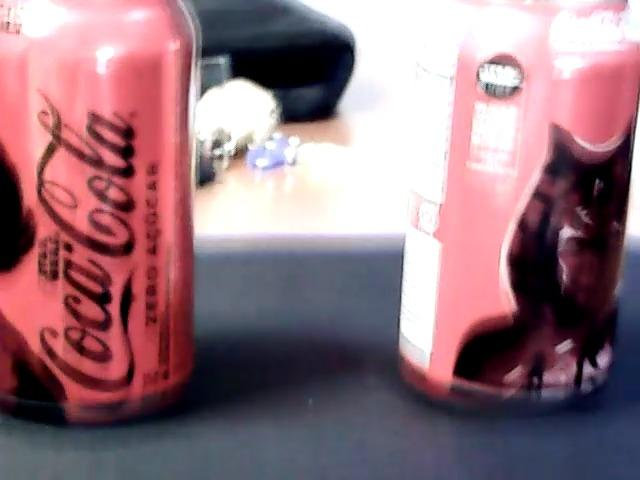coke: (401, 5, 630, 401), (5, 11, 190, 414)
